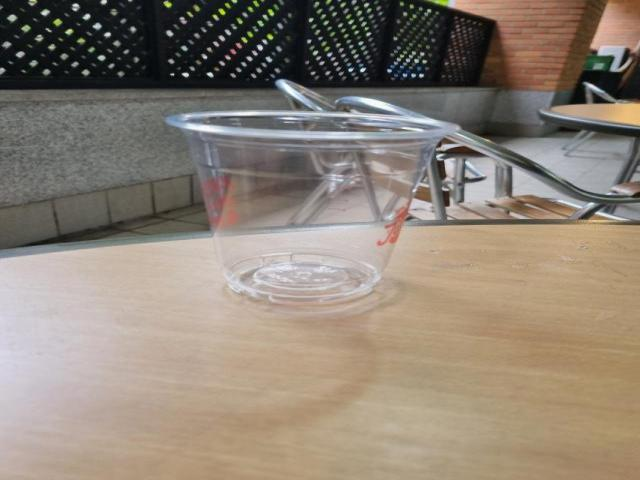cup: (158, 104, 466, 310)
